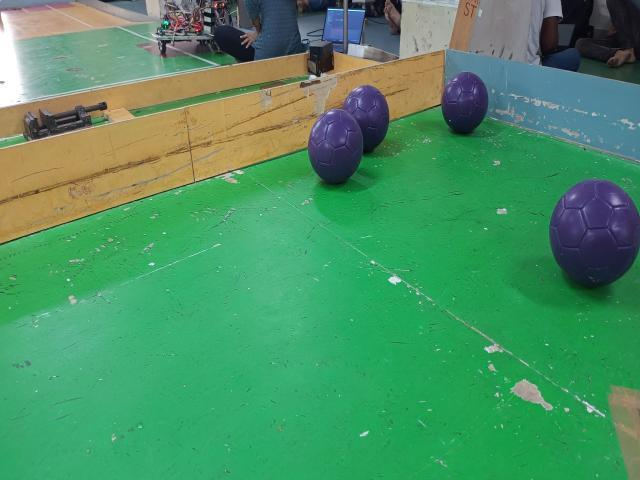jambhalya: (550, 180, 640, 287), (308, 108, 364, 183), (342, 85, 390, 152), (441, 72, 489, 133)
